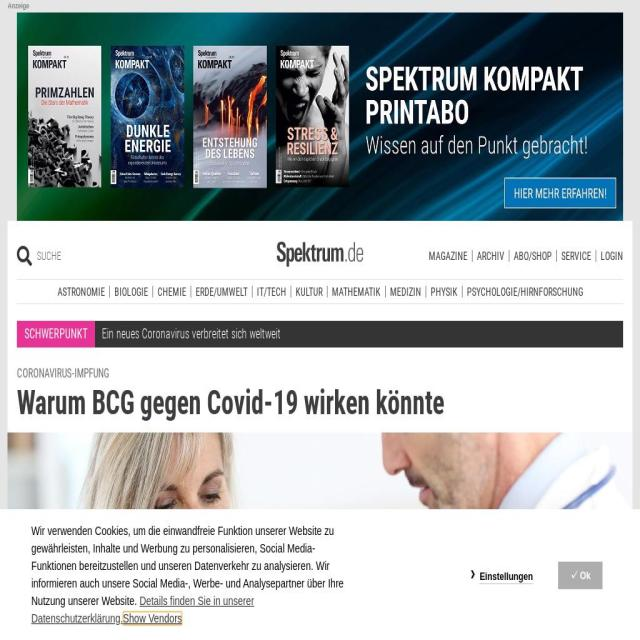button: (17, 363, 623, 640), (17, 320, 623, 348), (462, 285, 587, 297), (277, 245, 363, 262), (479, 569, 533, 584), (190, 285, 252, 297), (52, 285, 110, 297), (327, 285, 385, 297), (424, 250, 472, 262), (509, 250, 556, 262), (110, 285, 152, 297), (385, 285, 426, 297), (556, 250, 596, 262), (152, 285, 190, 297), (252, 285, 290, 297), (472, 250, 508, 262), (291, 285, 327, 297), (426, 285, 462, 297), (596, 250, 623, 262), (570, 568, 592, 582)
field: (37, 246, 134, 266)
heading: (17, 382, 444, 422)
iframe: (17, 12, 623, 221)
image: (7, 431, 632, 640), (277, 242, 363, 266)
link: (32, 594, 255, 625), (122, 612, 182, 625)
text: (31, 524, 344, 608), (17, 320, 623, 348), (17, 363, 623, 382), (17, 320, 95, 348)
